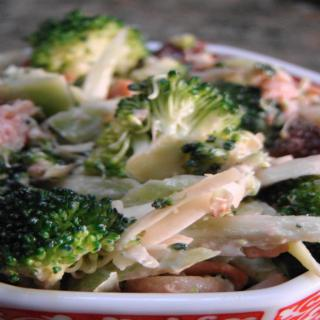Broccoli: (87, 70, 247, 183), (0, 184, 138, 292), (27, 8, 150, 83), (272, 175, 320, 218)
Salad: (0, 6, 320, 295)
